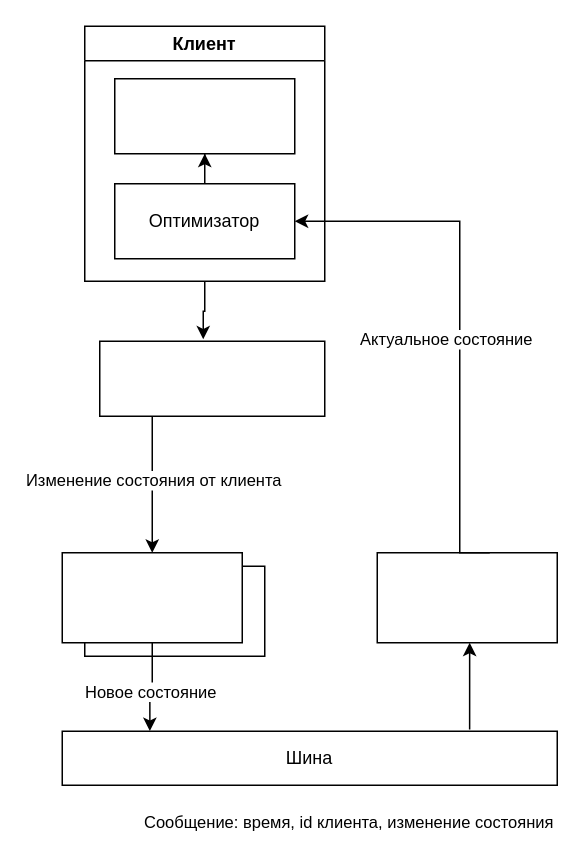
Some shapes in this 584 by 858 pixel diagram are drawn without their labels. Each missing label, with the centre of its shape:
Load balancer: pixel 211 378
Рендер: pixel 204 115
